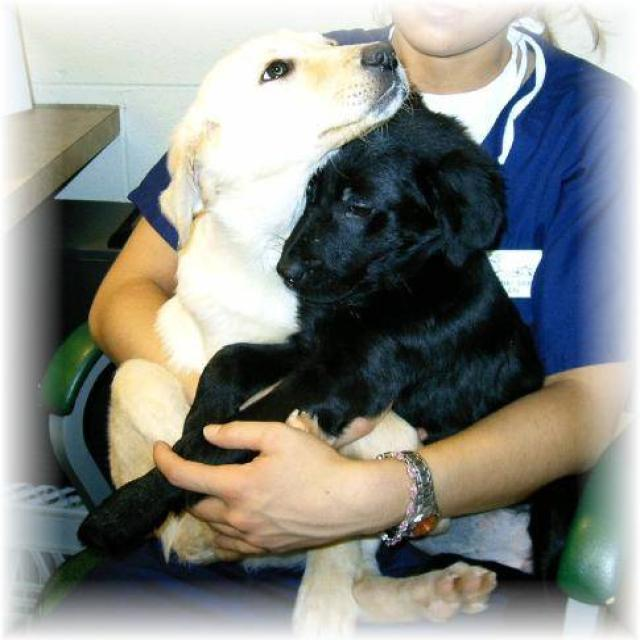cat: (56, 88, 596, 586), (130, 14, 424, 376)
